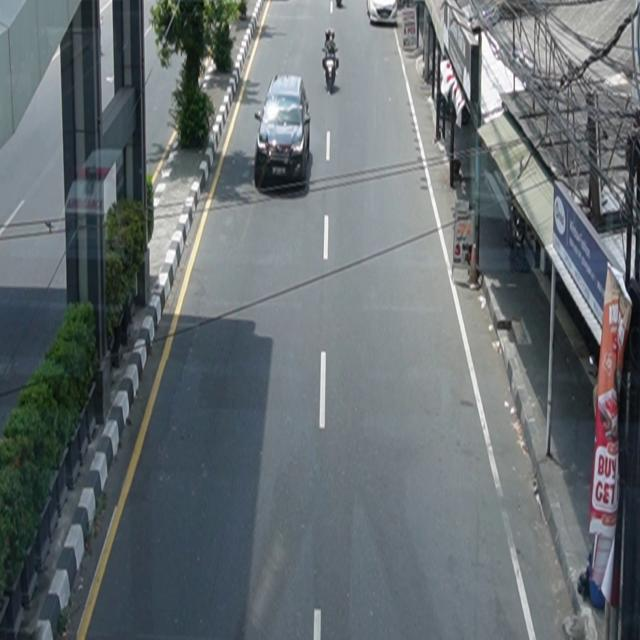car: (255, 74, 311, 189), (367, 1, 398, 26)
